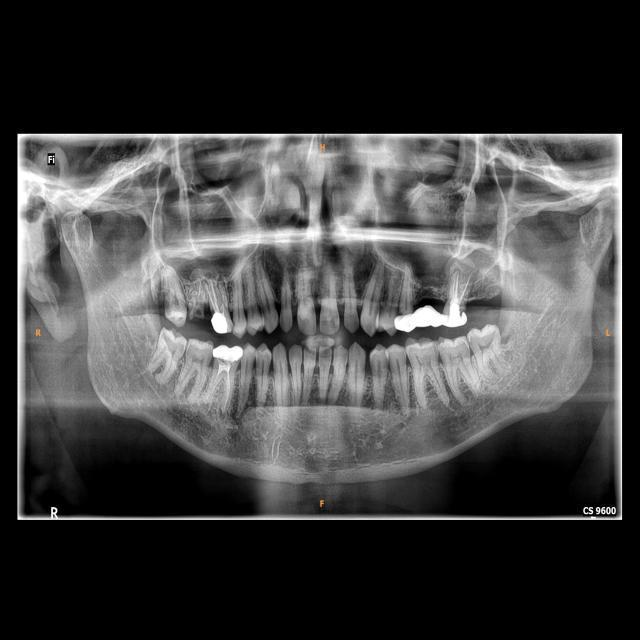kanal-tedavisi: (209, 364, 233, 404), (203, 276, 228, 313), (446, 272, 474, 304)
kaplama: (212, 341, 246, 367), (439, 302, 468, 326), (206, 311, 232, 336), (393, 308, 419, 332)
kirik: (184, 284, 209, 324)
kopru: (404, 298, 456, 332)
